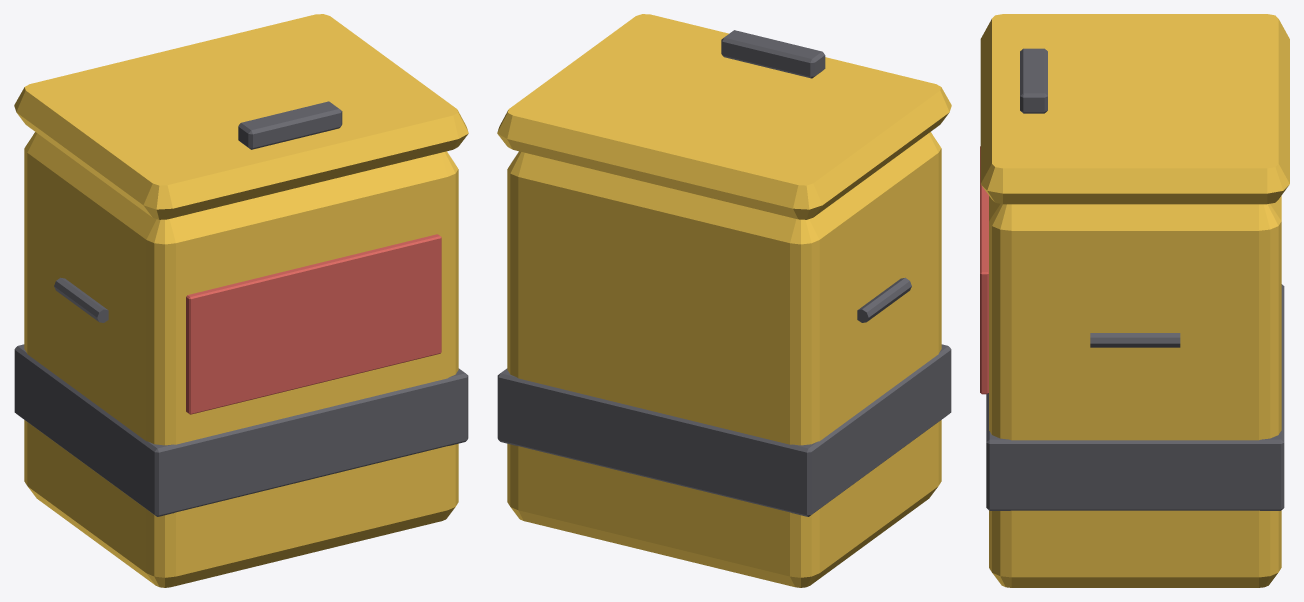
Rendered from petrol-station-and-forecourt-shop-spill-kit-bin-dfacf958__33952.glb.
3 views of the same model, side by side, from view 1: azimuth 30°, elevation 25°; view 2: azimuth 150°, elevation 25°; view 3: azimuth 270°, elevation 25° (orthographic). The views are drawn at different scales.
Parts seen in each view (by area): view 1: spill-kit-bin, spill-lid/amber, spill-lid/dark; view 2: spill-kit-bin, spill-lid/amber, spill-lid/dark; view 3: spill-kit-bin, spill-lid/amber, spill-lid/dark.
Part boxes in pixels (x1,y1,x2,y2): spill-kit-bin: [14, 132, 468, 587]; spill-lid/amber: [14, 14, 468, 219]; spill-lid/dark: [238, 101, 342, 149]; spill-kit-bin: [497, 132, 951, 587]; spill-lid/amber: [497, 14, 951, 219]; spill-lid/dark: [721, 30, 825, 78]; spill-kit-bin: [980, 146, 1284, 587]; spill-lid/amber: [980, 14, 1289, 204]; spill-lid/dark: [1020, 48, 1047, 113].
Size of the model in its own units: 0.708 by 0.87 by 0.551.
